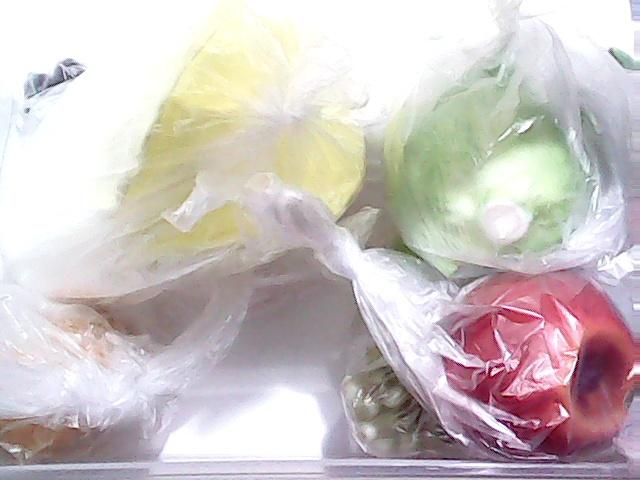apple: (440, 262, 640, 450)
cabbage: (386, 46, 606, 270)
grape: (336, 338, 476, 464), (0, 35, 100, 114)
napa cabbage: (16, 8, 368, 294)
potato: (1, 296, 155, 464)
